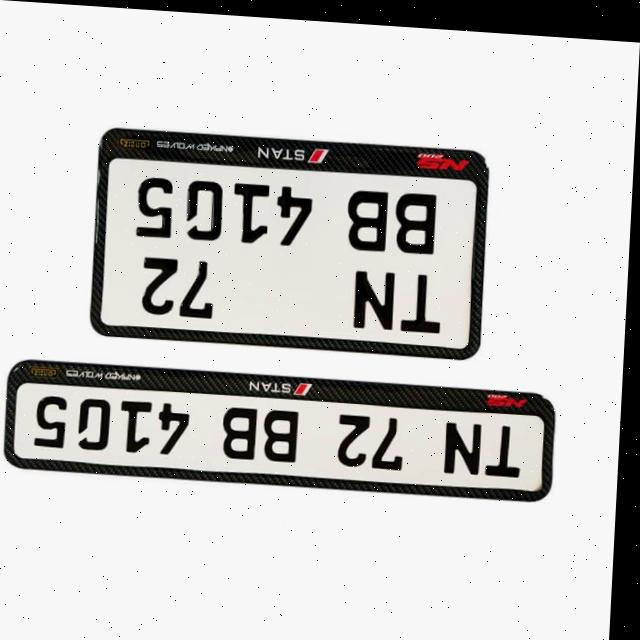plate: (93, 126, 494, 355), (9, 357, 567, 498)
